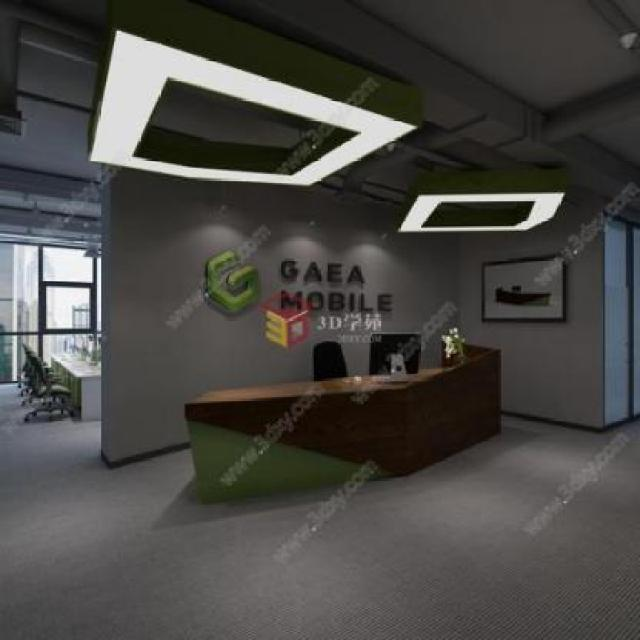frontdesk: (168, 331, 514, 519)
